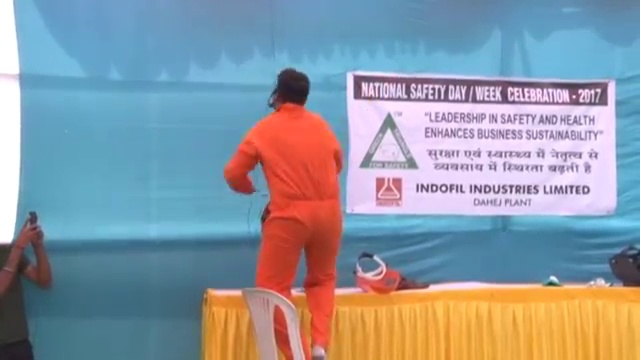helmet_off: (268, 66, 311, 113)
person: (228, 70, 347, 360), (1, 219, 58, 355)
